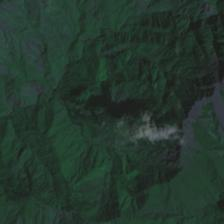landslides: (33, 83, 47, 96), (0, 31, 9, 43)
